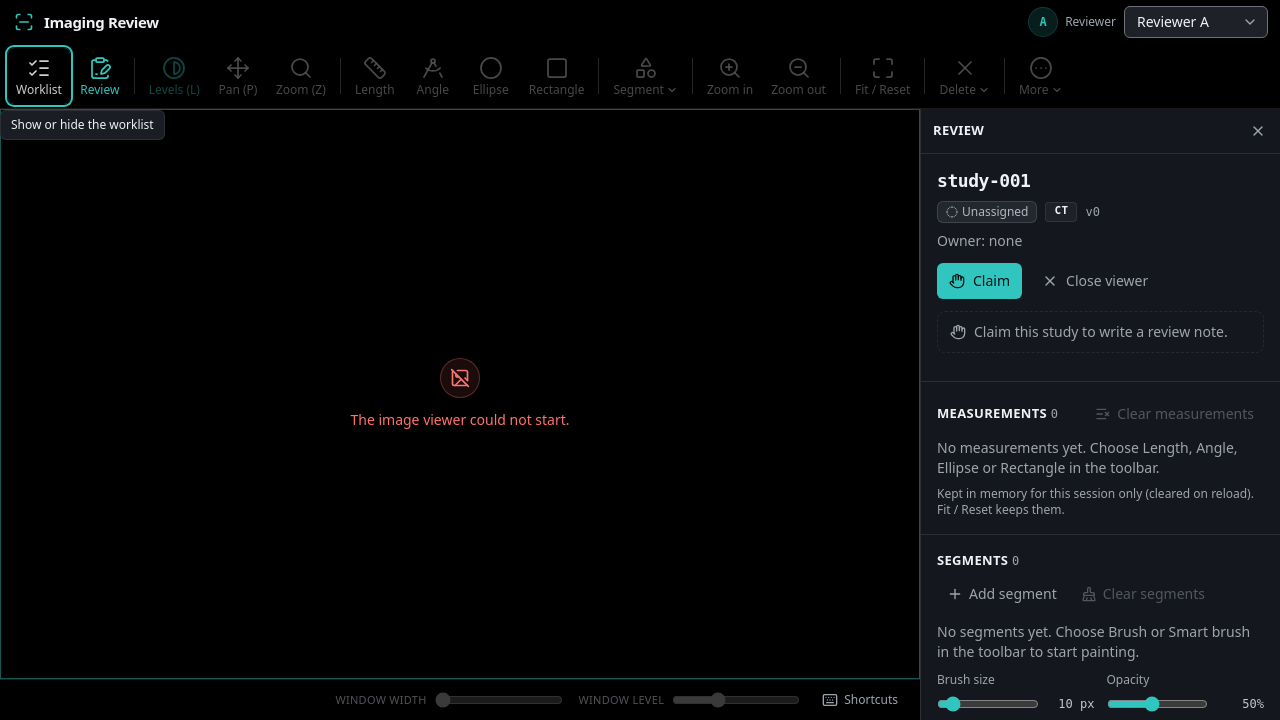
Scenario: StudyPanel › a 412 on claim also disables Claim until Refresh and continue
The image size is (1280, 720).
Click the button "Claim": (980, 280) [937, 262, 1022, 298]
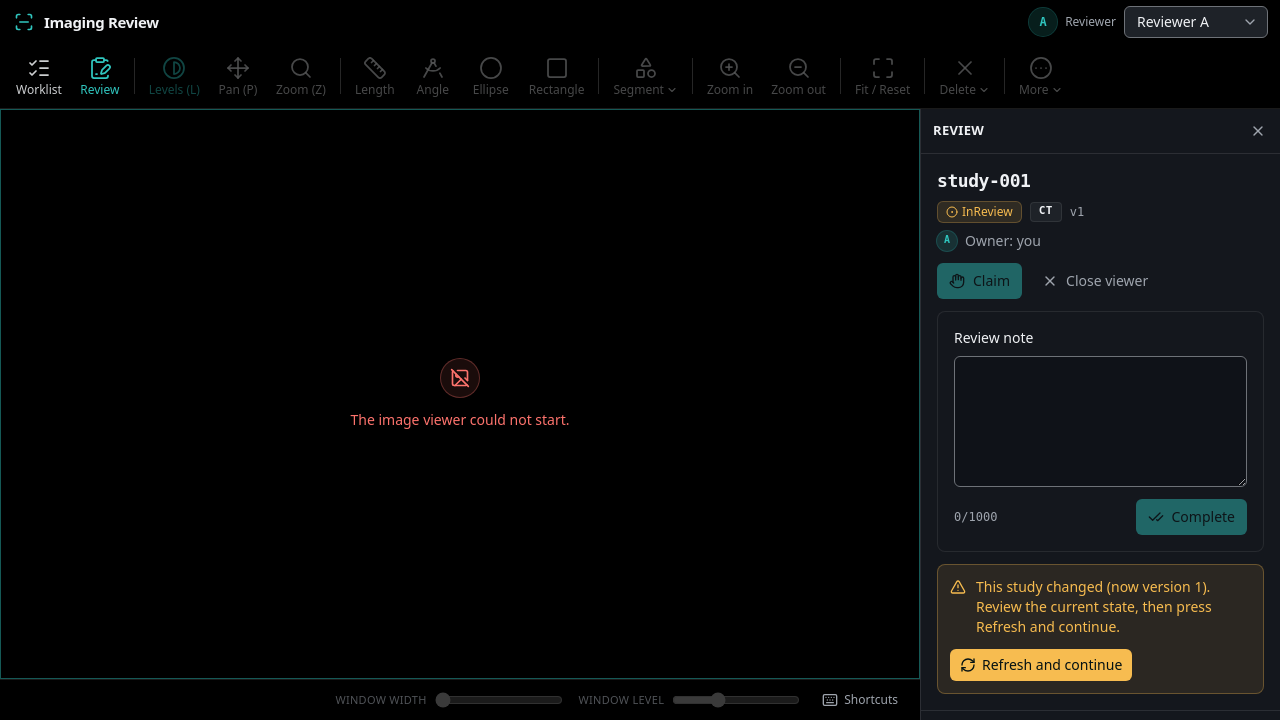
Check: the text "now version 1" is shown, box [976, 577, 1251, 637]
Check: the button "Claim" is disabled, box [937, 262, 1022, 298]
Click the button "Refresh and continue": (1041, 665) [950, 649, 1132, 681]
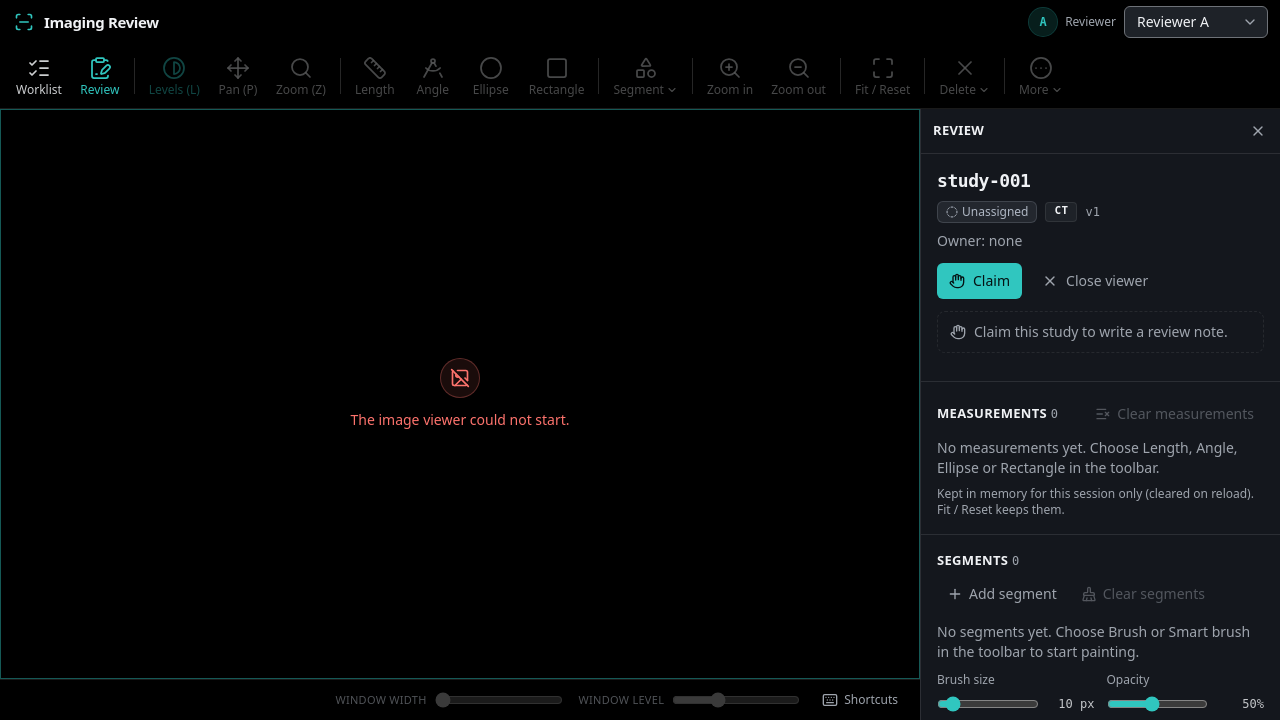
Check: the button "Claim" is enabled, box [937, 262, 1022, 298]
